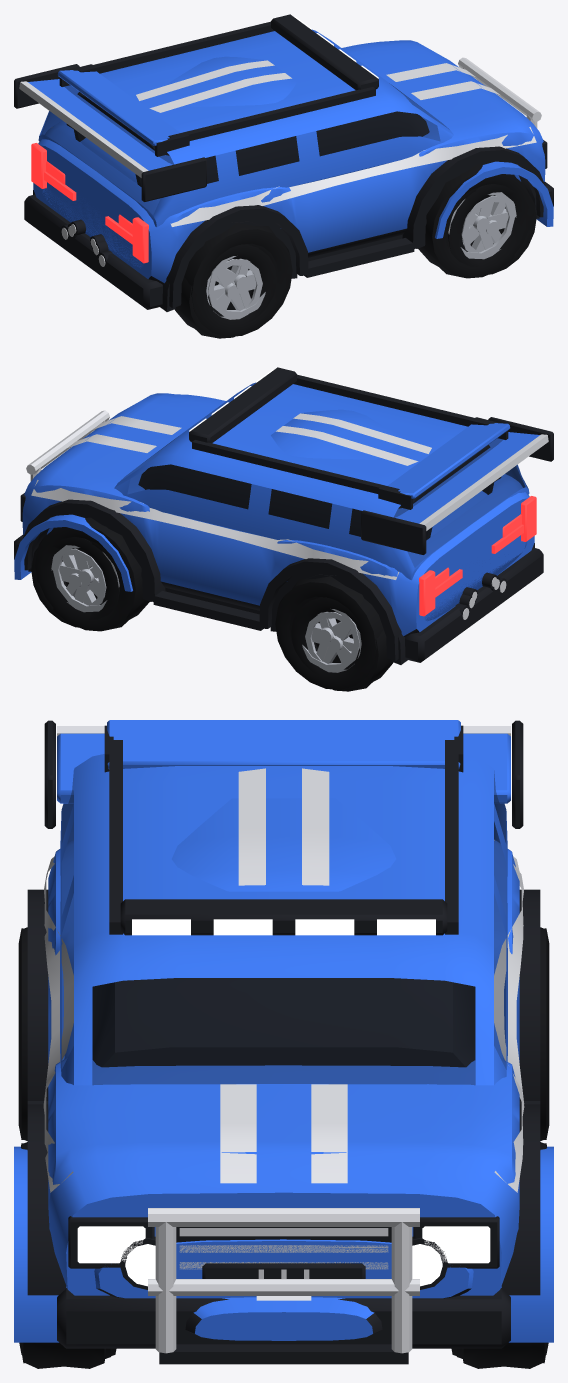
The model's file is cars.glb.
3 views of the same model, one above another, from view 1: azimuth 30°, elevation 25°; view 2: azimuth 150°, elevation 25°; view 3: azimuth 270°, elevation 25° (orthographic). The views are drawn at different scales.
Visible parts, largest first — view 1: body (×3), wheel_rr (×2), wheel_fr (×3); view 2: body (×3), wheel_rl (×2), wheel_fl (×3); view 3: body (×3), wheel_rl, wheel_rr, wheel_fl, wheel_fr.
Part boxes in pixels (x1,y1,x2,y2): body (×3): [14, 14, 553, 311]; wheel_rr (×2): [174, 223, 292, 338]; wheel_fr (×3): [418, 164, 536, 278]; body (×3): [14, 367, 553, 664]; wheel_rl (×2): [275, 576, 393, 691]; wheel_fl (×3): [31, 517, 149, 631]; body (×3): [14, 720, 553, 1364]; wheel_rl: [540, 927, 549, 1140]; wheel_rr: [18, 927, 27, 1140]; wheel_fl: [462, 1342, 547, 1368]; wheel_fr: [20, 1342, 105, 1368].
Bounding box in the file's own units: 3.98 × 1.79 × 2.38.
